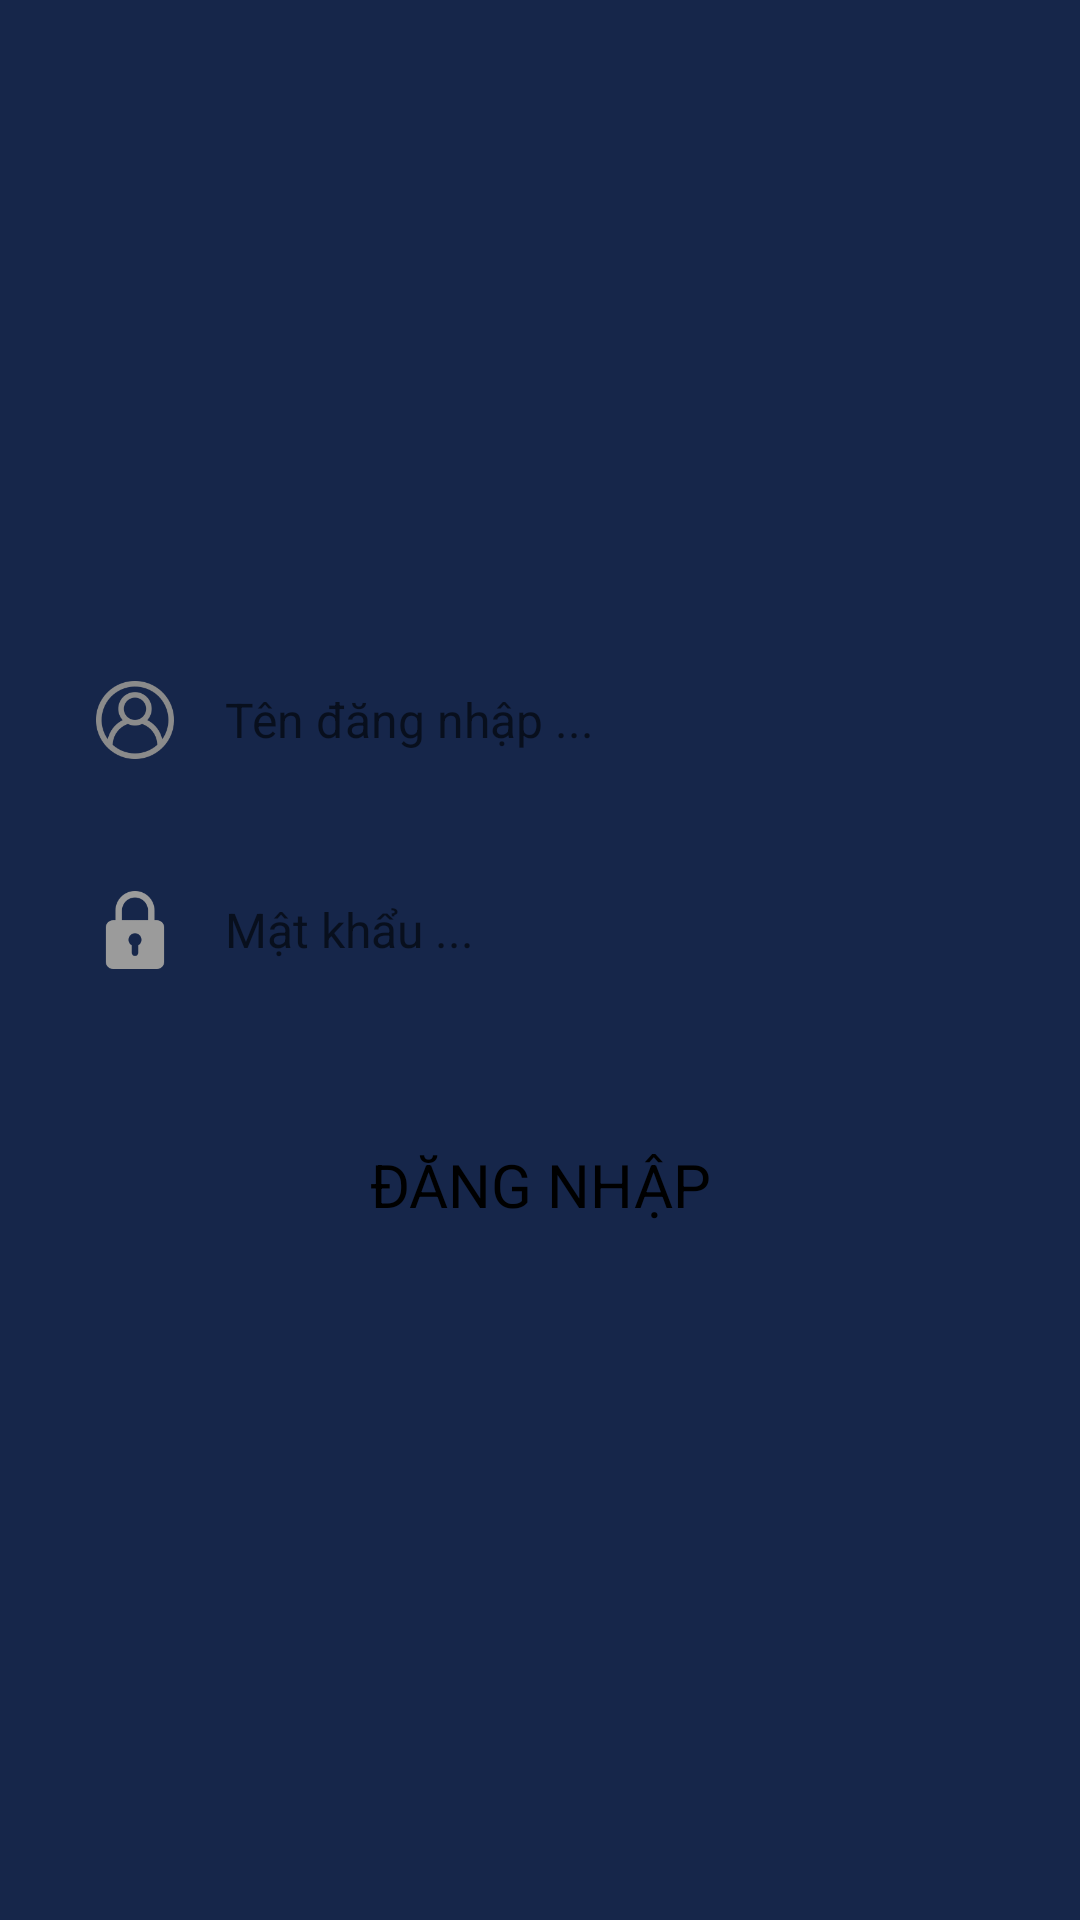

Icons on this 1080 x 1920 Android screen, each with its box as (x1, y1, x2, y2):
account: (96, 681, 174, 759)
password: (106, 891, 164, 969)
